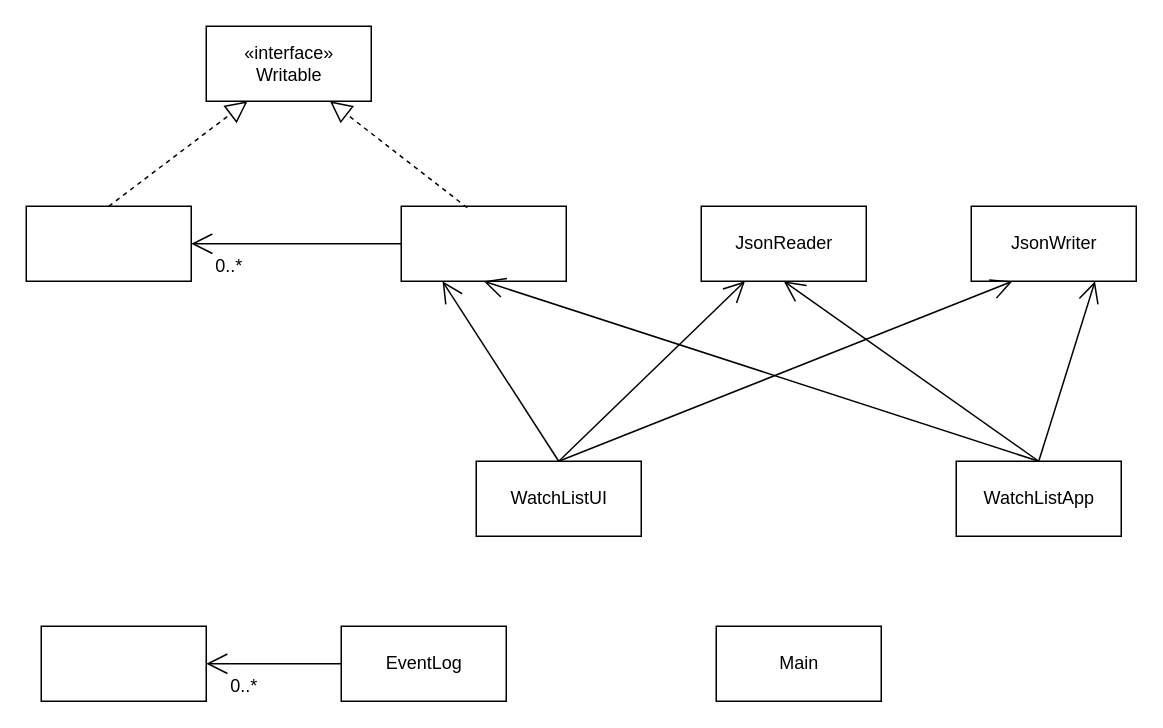
Image size: 1163x728. Some labels were removed from this diagram. Each missing label, with the centre of its shape:
"Event" goes at [123,663].
"Musical" goes at [108,243].
"WatchList" goes at [483,243].
